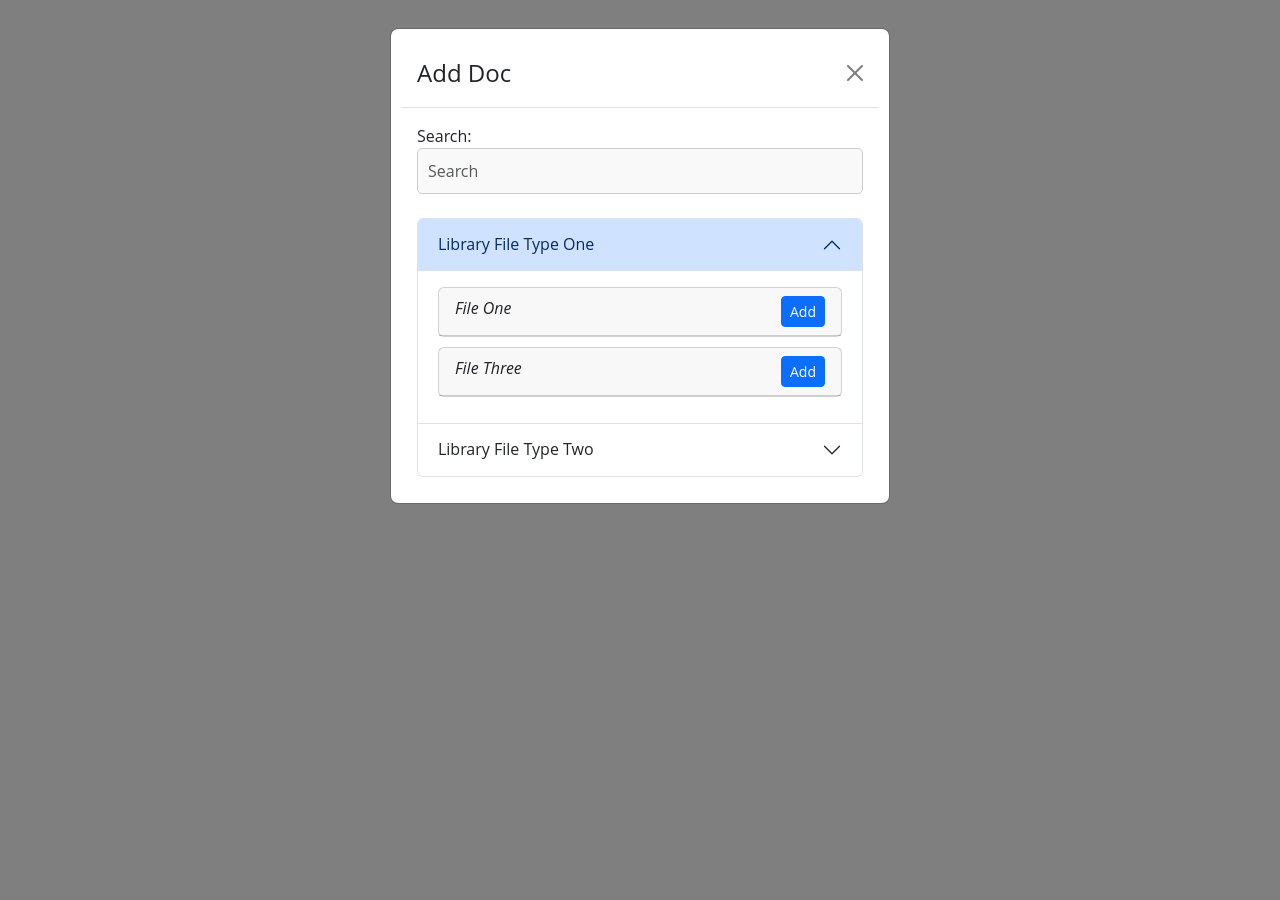
Test: AddDocModal › filters documents based on search query: P3 (Unknown input)
Note: Type into the input
Type "unknown" into the field with placeholder "Search". click: (640, 171)
box: [417,148,863,194]
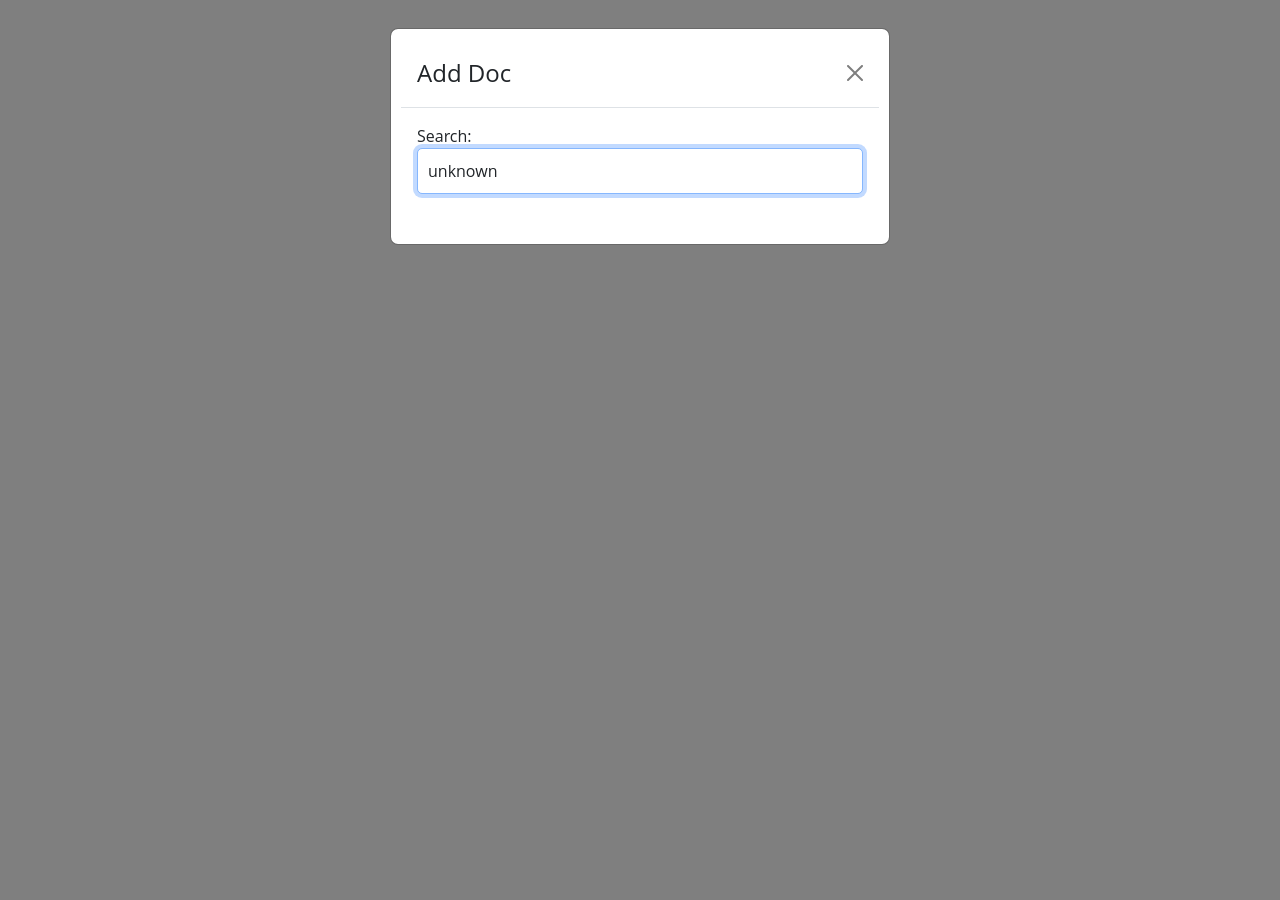
Expected: the text "File One" is gone
Expected: the text "File Three" is gone
